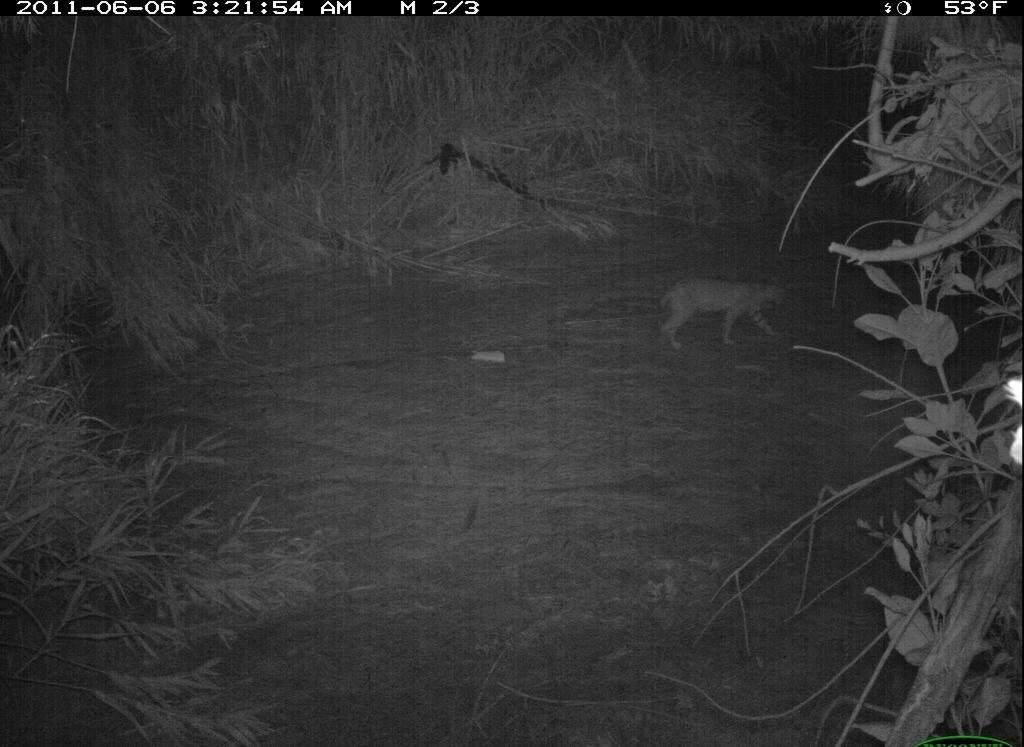bobcat: (657, 264, 802, 369)
